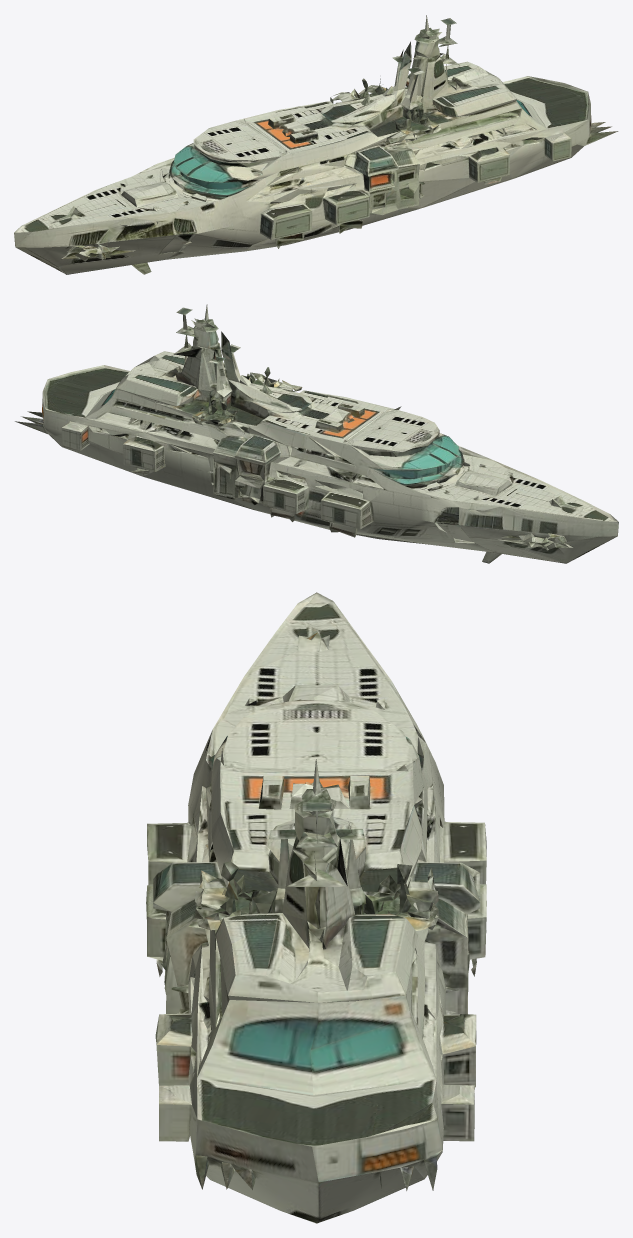
File: nation-m-cruiser.glb
3 views of the same model, one above another, from view 1: azimuth 30°, elevation 25°; view 2: azimuth 150°, elevation 25°; view 3: azimuth 270°, elevation 25° (orthographic). The views are drawn at different scales.
Size of the model in its own units: 1.9 by 0.5946 by 0.4862.
1 material, 1 textured.
